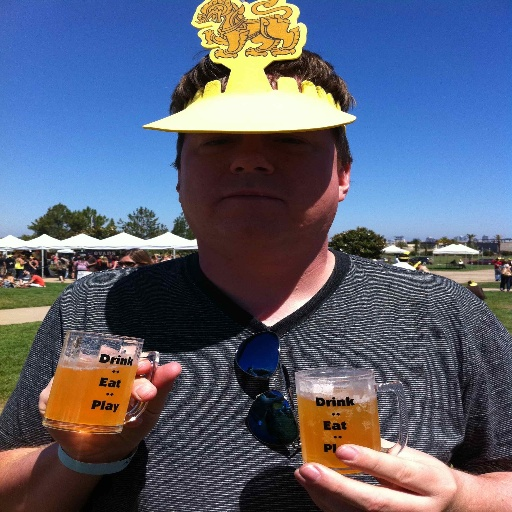hand: (36, 343, 183, 464), (294, 441, 460, 511)
